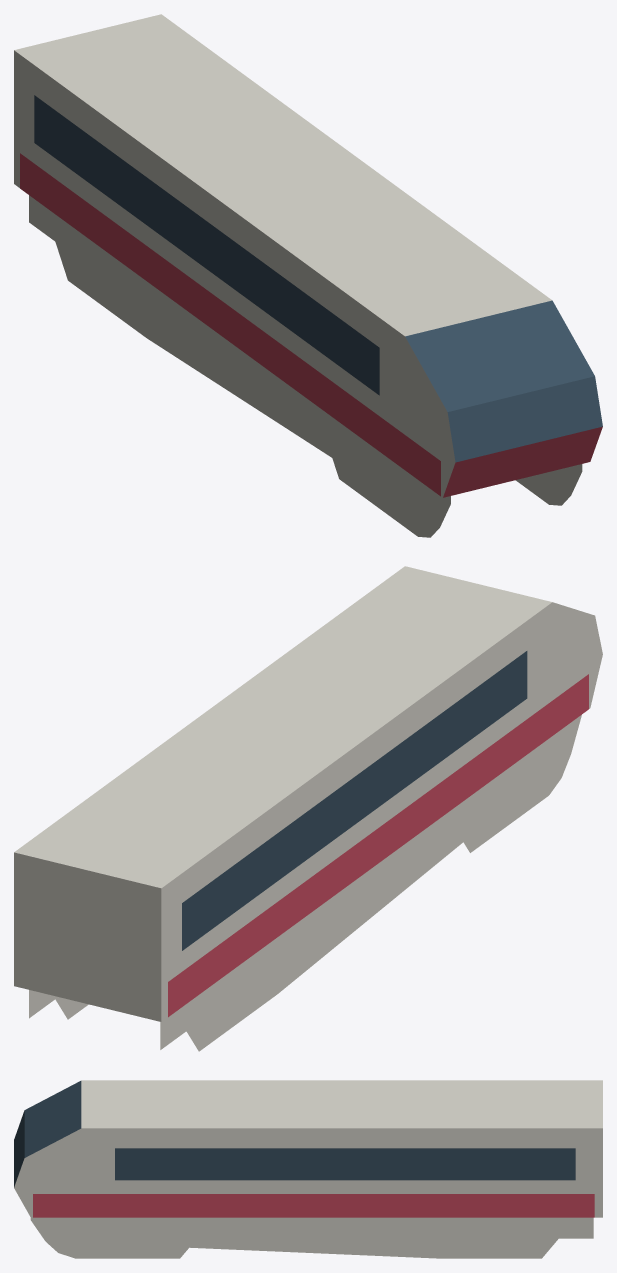
File: 2_far.fbx
The picture shows the model from 3 angles, top to bottom: view 1: azimuth 30°, elevation 25°; view 2: azimuth 150°, elevation 25°; view 3: azimuth 270°, elevation 25°; orthographic projection. The views are drawn at different scales.
Parts seen in each view (by area): view 1: 24_2_far; view 2: 24_2_far; view 3: 24_2_far.
Boxes of the visible parts, left/top/right/bottom form: 24_2_far: left=14, top=14, right=602, bottom=537; 24_2_far: left=14, top=566, right=602, bottom=1051; 24_2_far: left=14, top=1080, right=602, bottom=1258.
Size of the model in its own units: 2.71 by 3.48 by 14.
